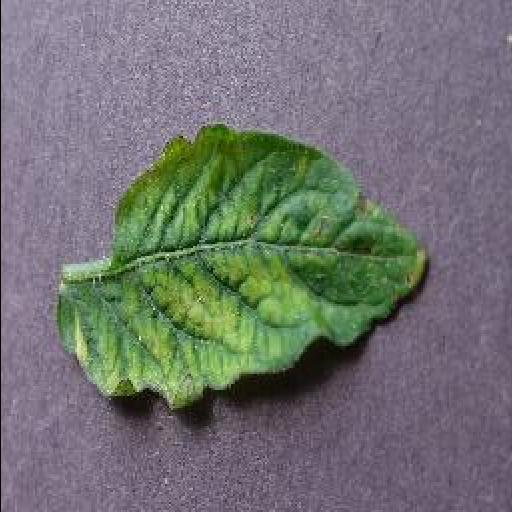Mosaic Virus: (56, 116, 430, 414)
